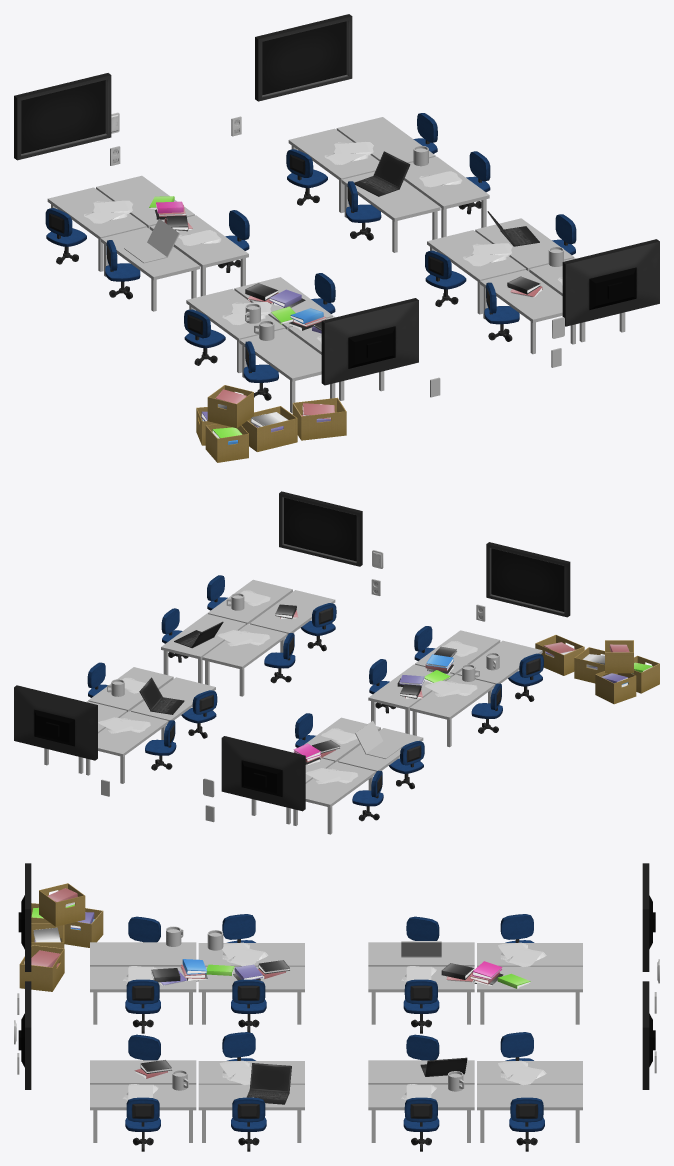
File: Room02Set0.FBX
3 renders of one model, top to bottom at view 1: azimuth 30°, elevation 25°; view 2: azimuth 150°, elevation 25°; view 3: azimuth 270°, elevation 25°, orthographic. The views are drawn at different scales.
Visible parts, largest first — view 1: moniter0 004, moniter0 005, moniter0 003, moniter0 002, Box249, Box228, Box210, Box217, Box238, Box231, Box220, Box209 (+27 smaller); view 2: moniter0 003, moniter0 004, moniter0 002, moniter0 005, Box220, Box241, Box231, Box222, Box209, Box228, Box221, Box249 (+27 smaller); view 3: Box211, Box233, Box249, Box221, Box210, Box222, Box228, Box238, Box232, Box217, Box209, Box243 (+33 smaller).
Boxes of the visible parts, <box> form: moniter0 004: <box>14,73,111,160</box>; moniter0 005: <box>255,14,352,101</box>; moniter0 003: <box>321,298,418,385</box>; moniter0 002: <box>562,239,659,326</box>; Box249: <box>239,328,335,412</box>; Box228: <box>480,270,575,354</box>; Box210: <box>404,156,489,237</box>; Box217: <box>341,171,440,252</box>; Box238: <box>101,227,199,311</box>; Box231: <box>47,187,146,271</box>; Box220: <box>427,230,525,314</box>; Box209: <box>288,128,379,212</box>; moniter0 003: <box>486,542,570,617</box>; moniter0 004: <box>221,736,305,811</box>; moniter0 002: <box>279,491,362,566</box>; moniter0 005: <box>14,685,97,760</box>; Box220: <box>202,624,287,696</box>; Box241: <box>410,674,495,747</box>; Box231: <box>293,762,375,834</box>; Box222: <box>161,613,246,683</box>; Box209: <box>86,711,168,783</box>; Box228: <box>250,590,335,634</box>; Box221: <box>207,579,292,624</box>; Box249: <box>457,640,542,684</box>; Box211: <box>477,1084,582,1142</box>; Box233: <box>477,966,582,1024</box>; Box249: <box>90,942,196,966</box>; Box221: <box>90,1084,196,1142</box>; Box210: <box>368,1084,474,1142</box>; Box222: <box>198,1084,304,1142</box>; Box228: <box>90,1060,196,1084</box>; Box238: <box>368,942,474,966</box>; Box232: <box>368,966,474,1024</box>; Box217: <box>368,1060,474,1084</box>; Box209: <box>477,1061,582,1084</box>; Box243: <box>198,966,304,1024</box>.
Size of the model in its own units: 99.92 by 23.72 by 120.
